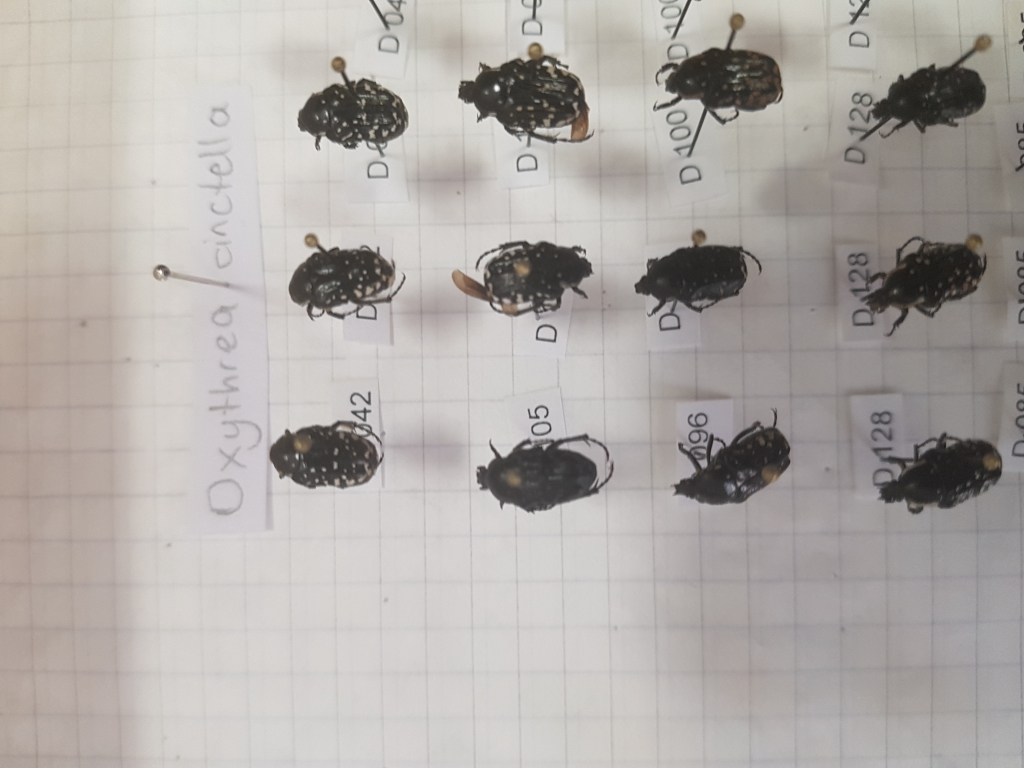Oxythyrea_cinctella: (456, 43, 594, 158), (468, 424, 619, 517), (449, 237, 596, 320), (255, 413, 385, 492), (291, 241, 408, 327)
